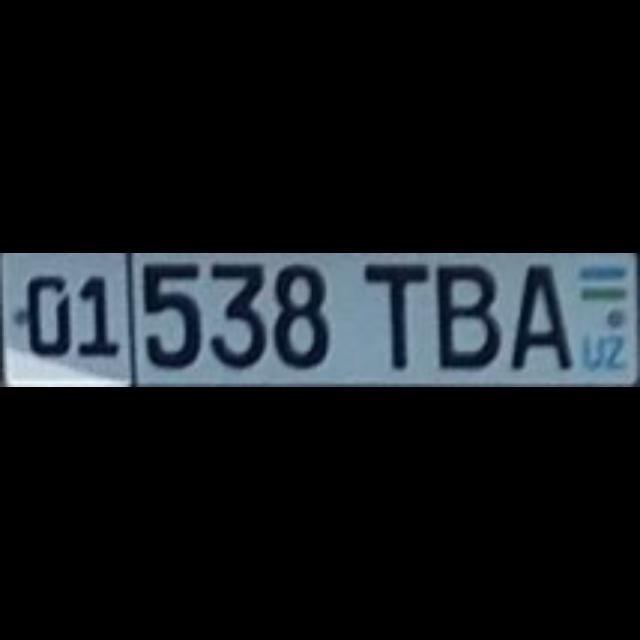0: (20, 270, 66, 352)
1: (72, 270, 114, 352)
3: (206, 259, 260, 367)
5: (140, 259, 198, 367)
8: (270, 258, 326, 364)
A: (508, 262, 568, 366)
B: (434, 262, 496, 364)
T: (359, 259, 425, 367)
